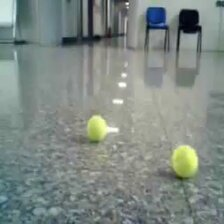tennis: (172, 145, 198, 177), (86, 115, 107, 141)
